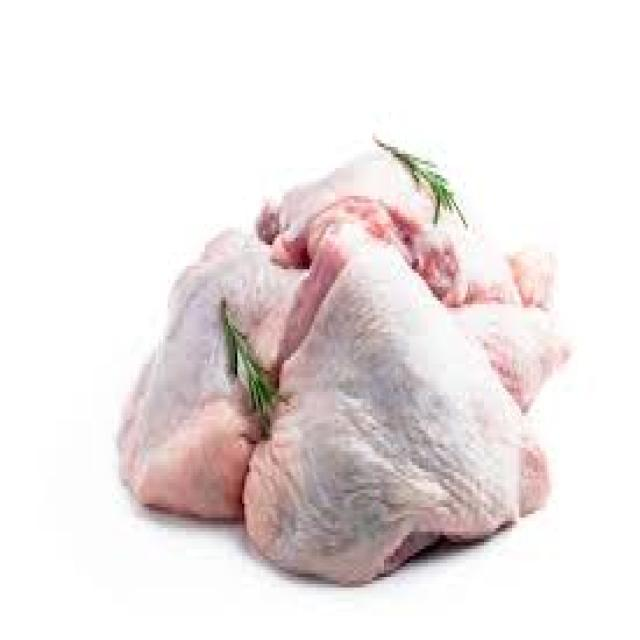thigh: (234, 232, 536, 574)
